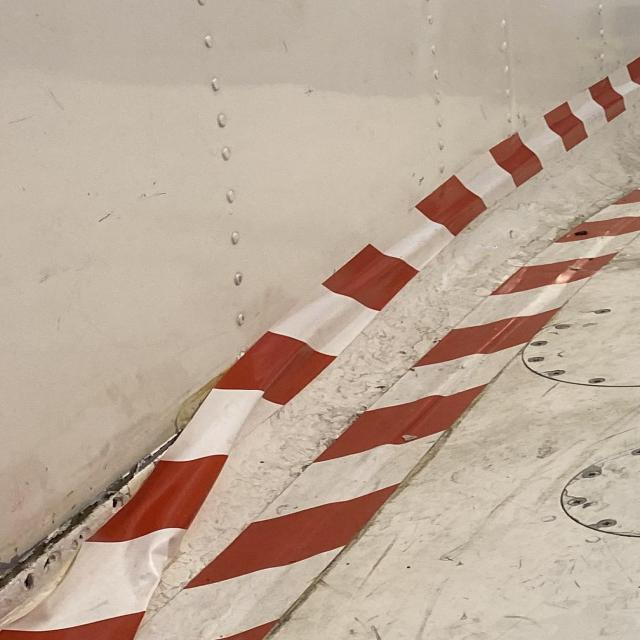Crack: (0, 441, 166, 618)
Missing-head: (20, 572, 41, 591), (105, 493, 124, 512)
Paint-off: (558, 489, 596, 519), (570, 460, 605, 484)
